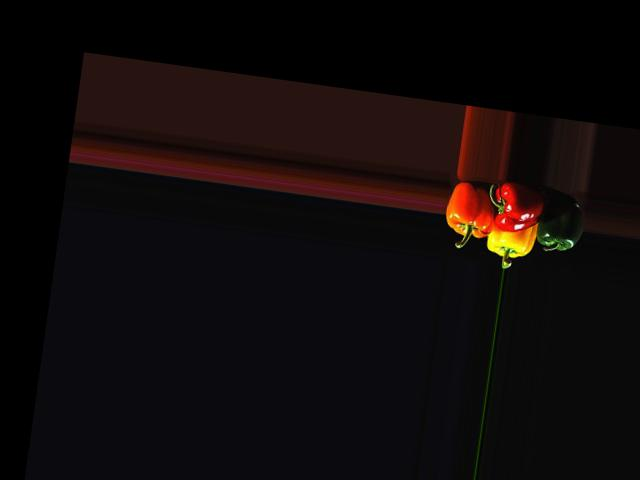bell_pepper: (442, 171, 501, 246)
